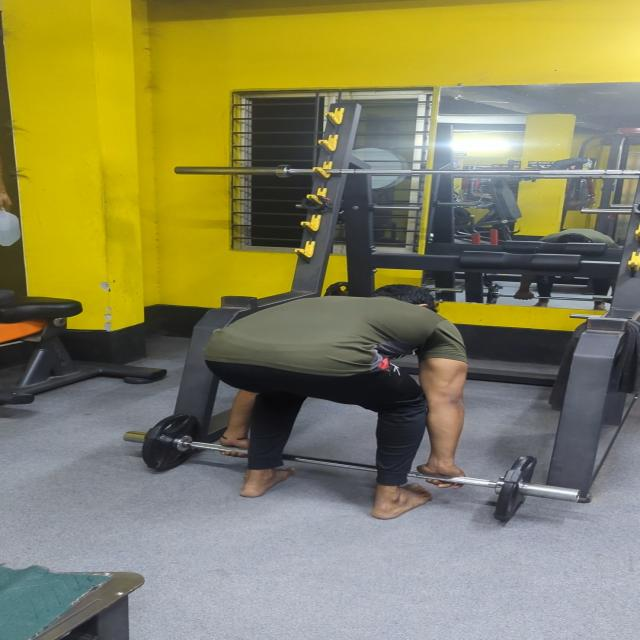Normal_Deadlifts: (52, 262, 520, 574)
